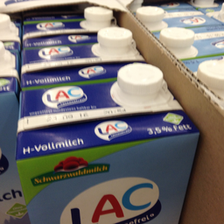milk: (10, 63, 201, 224)
